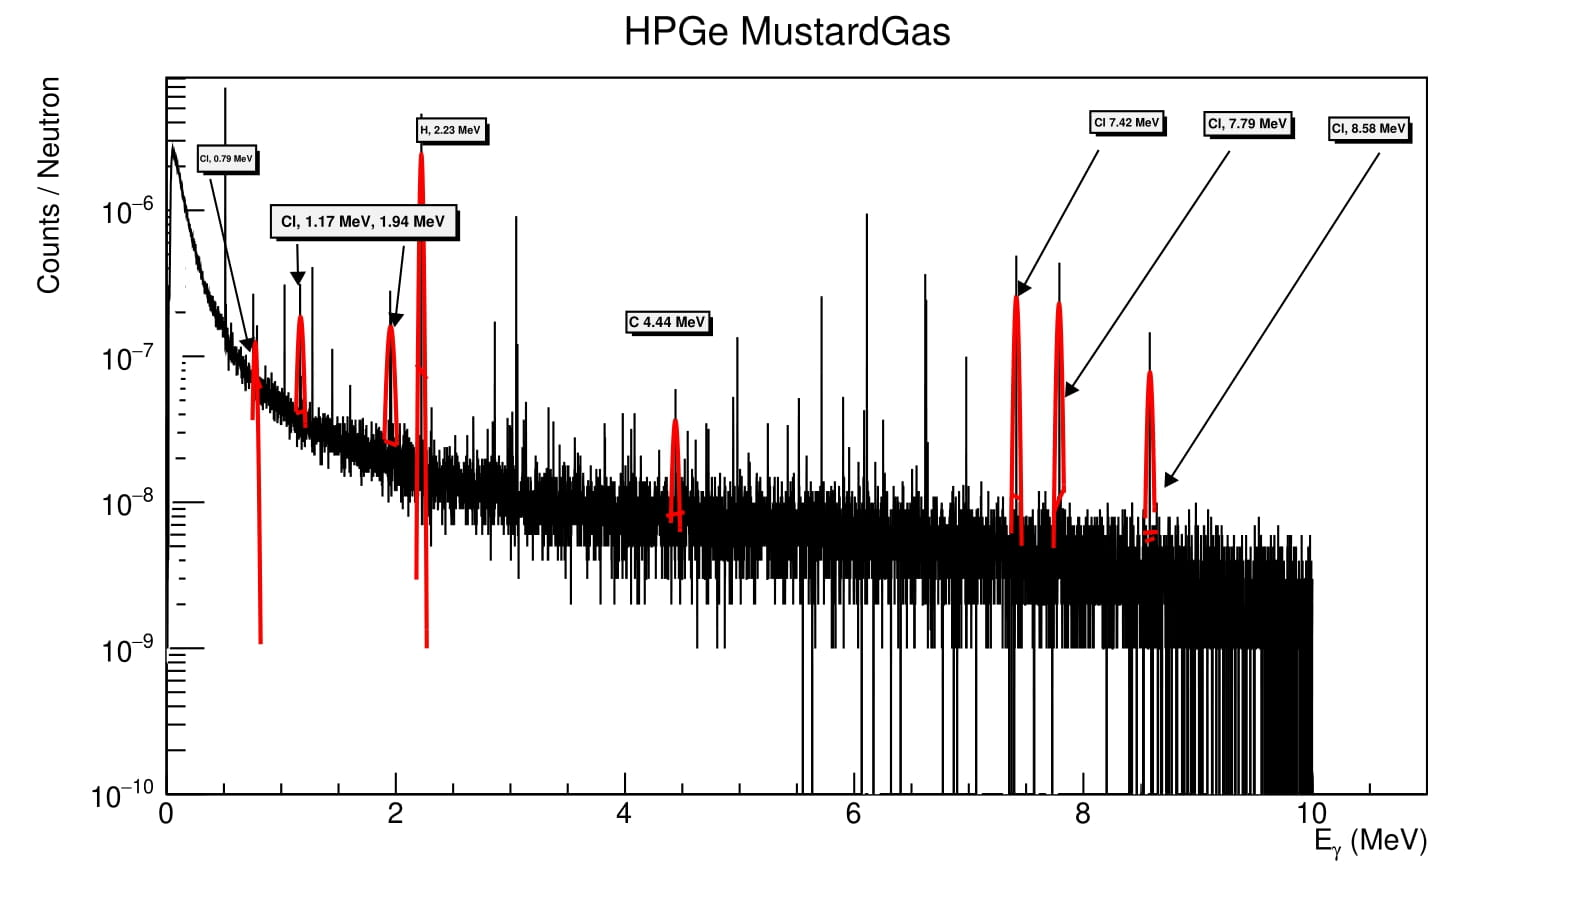gauss: (395, 129, 463, 641), (239, 311, 280, 637), (495, 206, 548, 417), (846, 210, 894, 441), (1048, 292, 1077, 560), (1009, 280, 1032, 576), (798, 293, 841, 449), (654, 400, 702, 529), (1139, 367, 1169, 555), (291, 299, 325, 448), (378, 321, 411, 462), (709, 339, 755, 439)
other: (1187, 504, 1359, 808), (477, 421, 641, 721), (751, 443, 987, 563)
